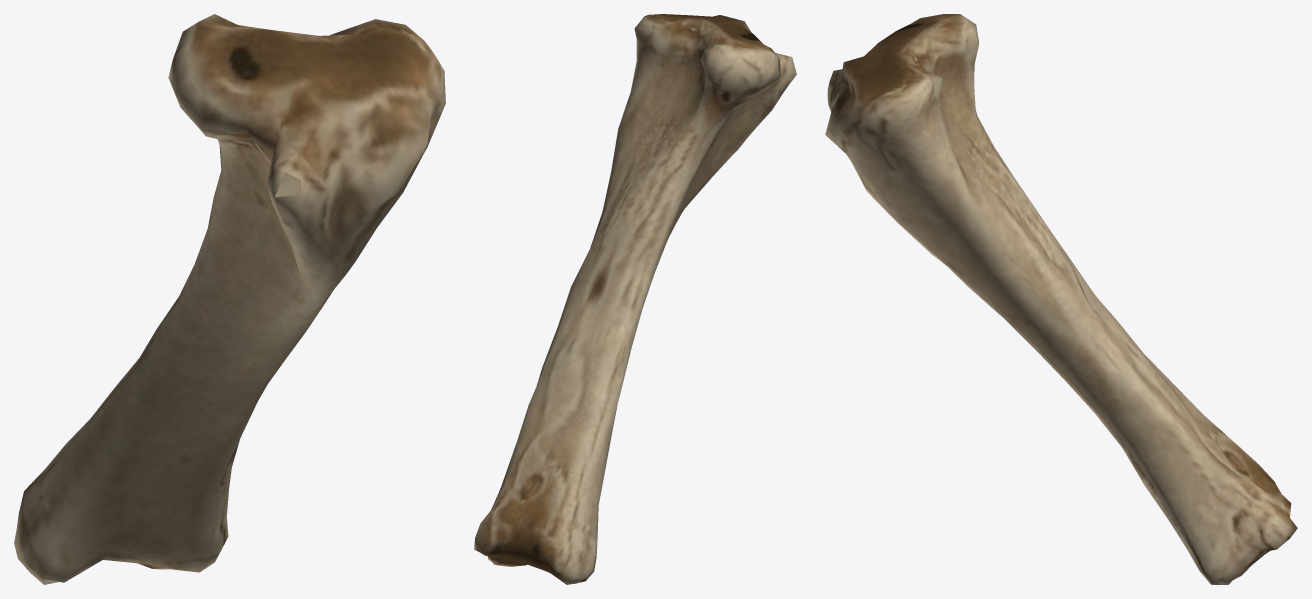
Rendered from Tibia.glb.
3 renders of one model, left to right at view 1: azimuth 30°, elevation 25°; view 2: azimuth 150°, elevation 25°; view 3: azimuth 270°, elevation 25°, orthographic. The views are drawn at different scales.
Parts seen in each view (by area): view 1: R_Bck_Tibia; view 2: R_Bck_Tibia; view 3: R_Bck_Tibia.
Boxes of the visible parts, bbox=[...] form: R_Bck_Tibia: bbox=[14, 14, 445, 584]; R_Bck_Tibia: bbox=[474, 14, 796, 584]; R_Bck_Tibia: bbox=[825, 14, 1297, 584].
Size of the model in its own units: 0.1116 by 0.3115 by 0.2622.
1 material, 1 textured.
